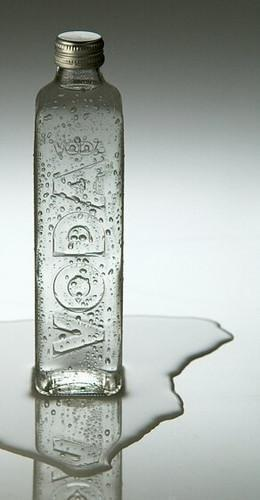bottle-glass: (31, 28, 126, 400)
